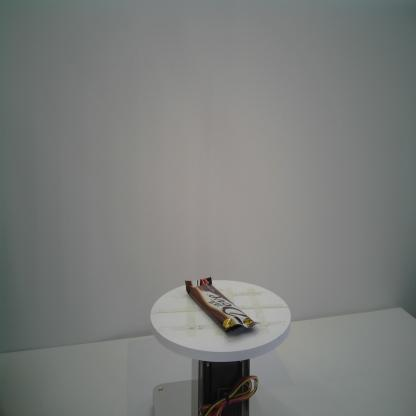Chocolate: (185, 276, 260, 332)
